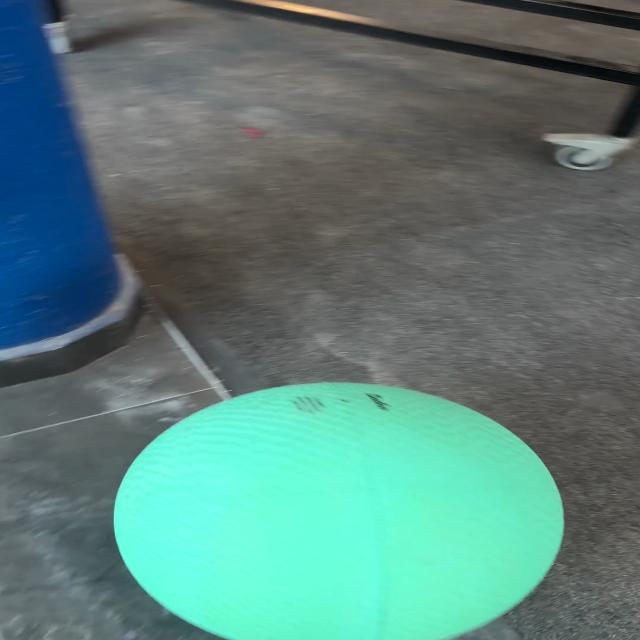Algae: (111, 380, 566, 639)
